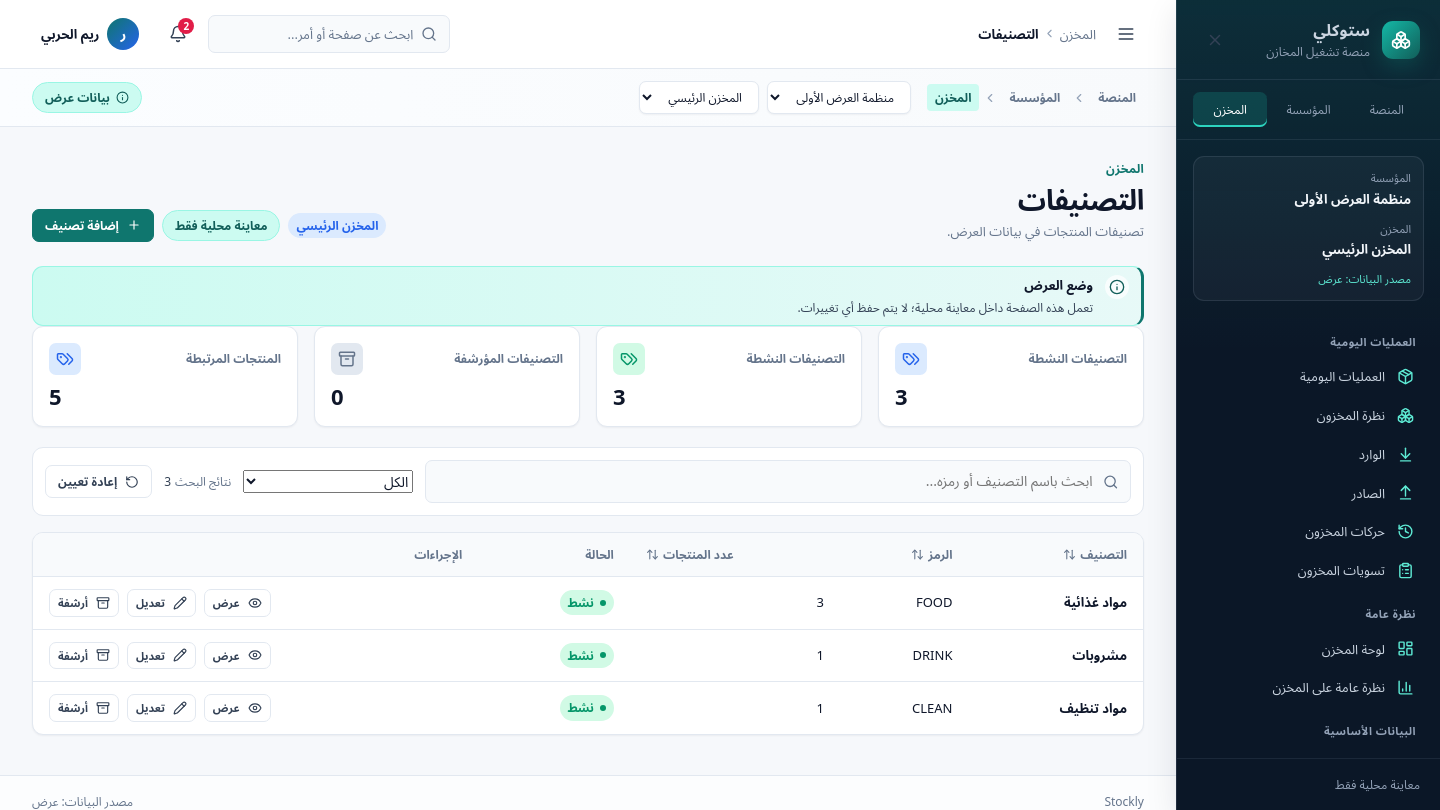
Test: Categories page › restores an archived category back into the product form
Later steps or results of the test are not shown.
Click the button "أرشفة" in the row of "مشروبات" at point(84, 655), box [49,642,119,669]
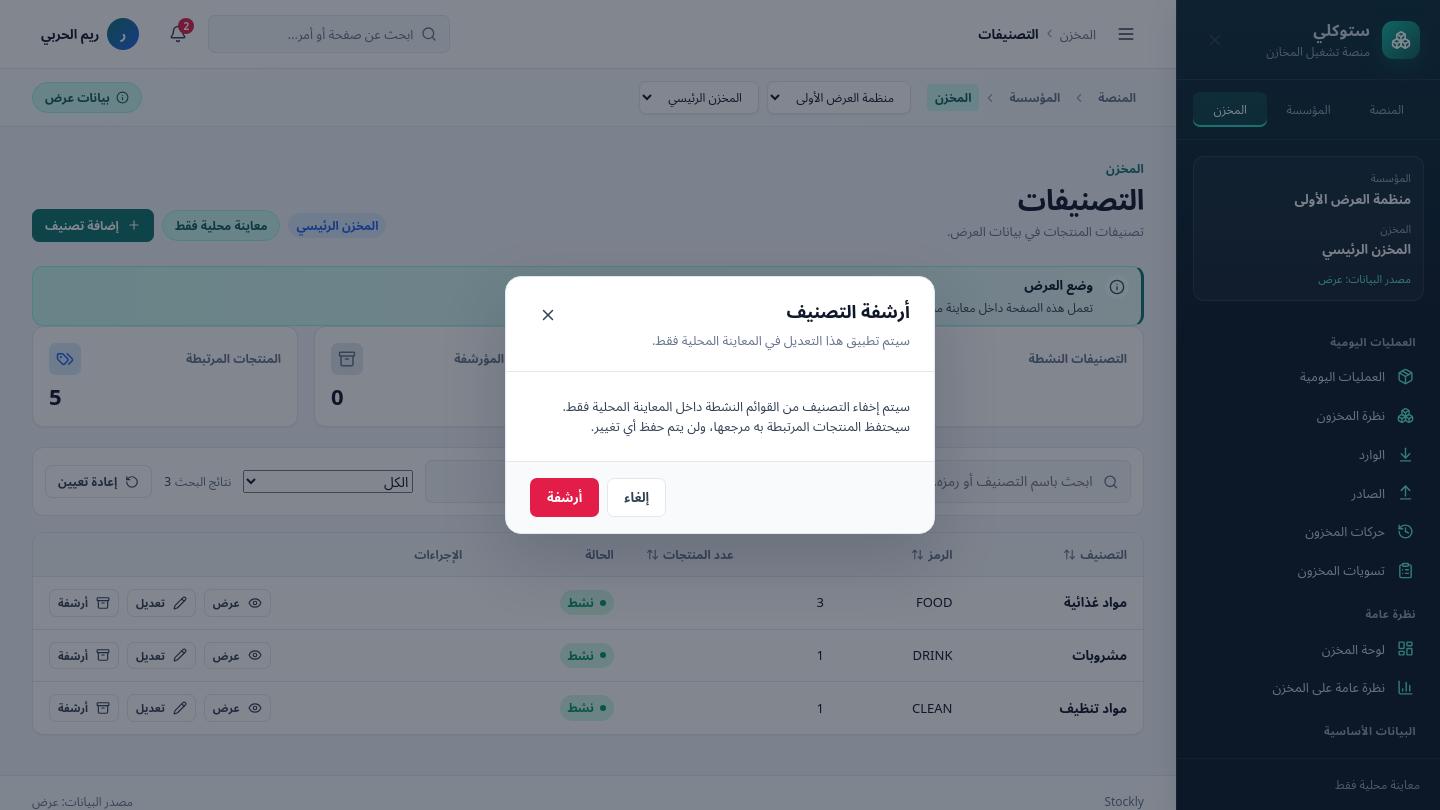
Click the button "أرشفة" at point(565, 498), box [530,478,599,517]
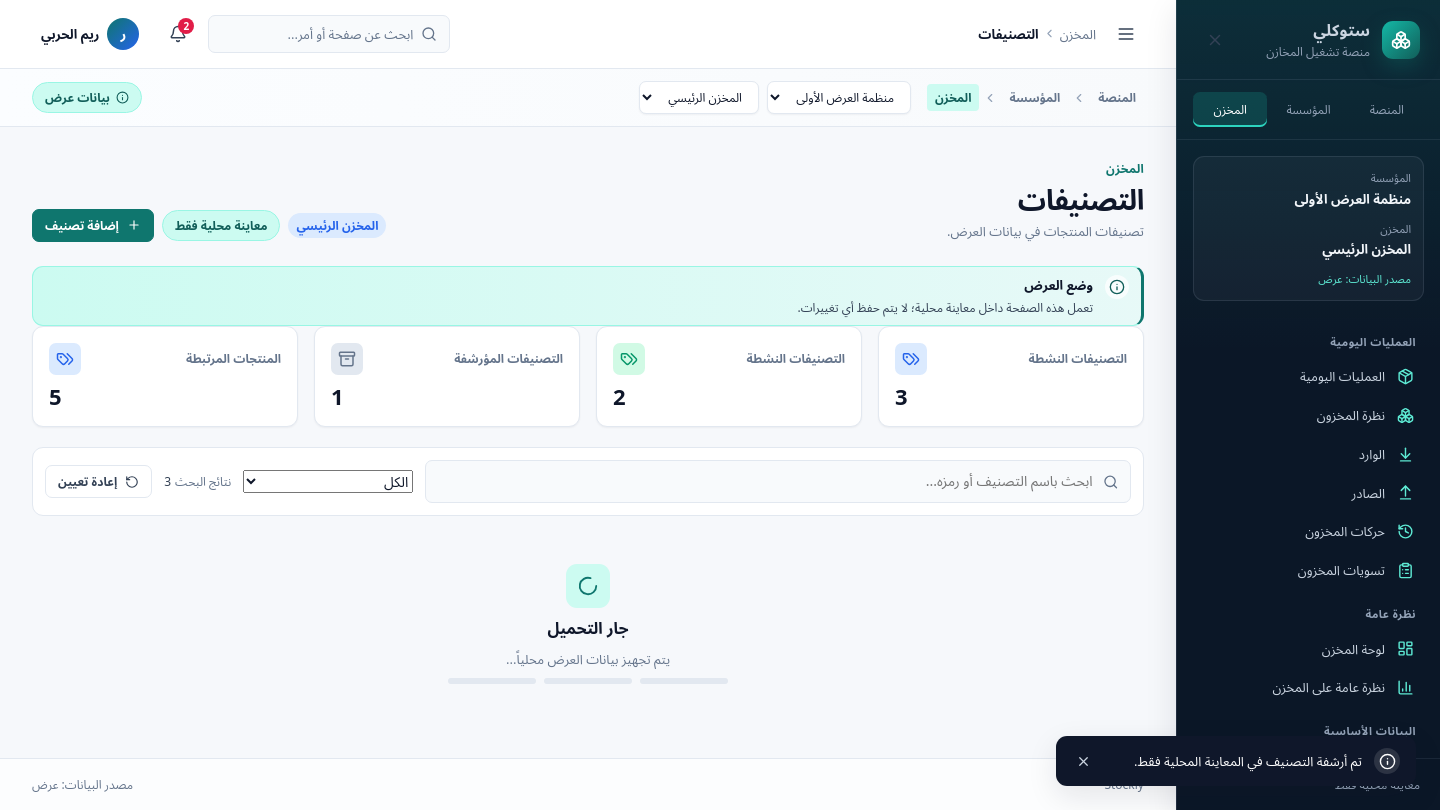
Select "مؤرشف" in the dropdown named "الحالة" at point(328, 482), box [243,470,413,493]
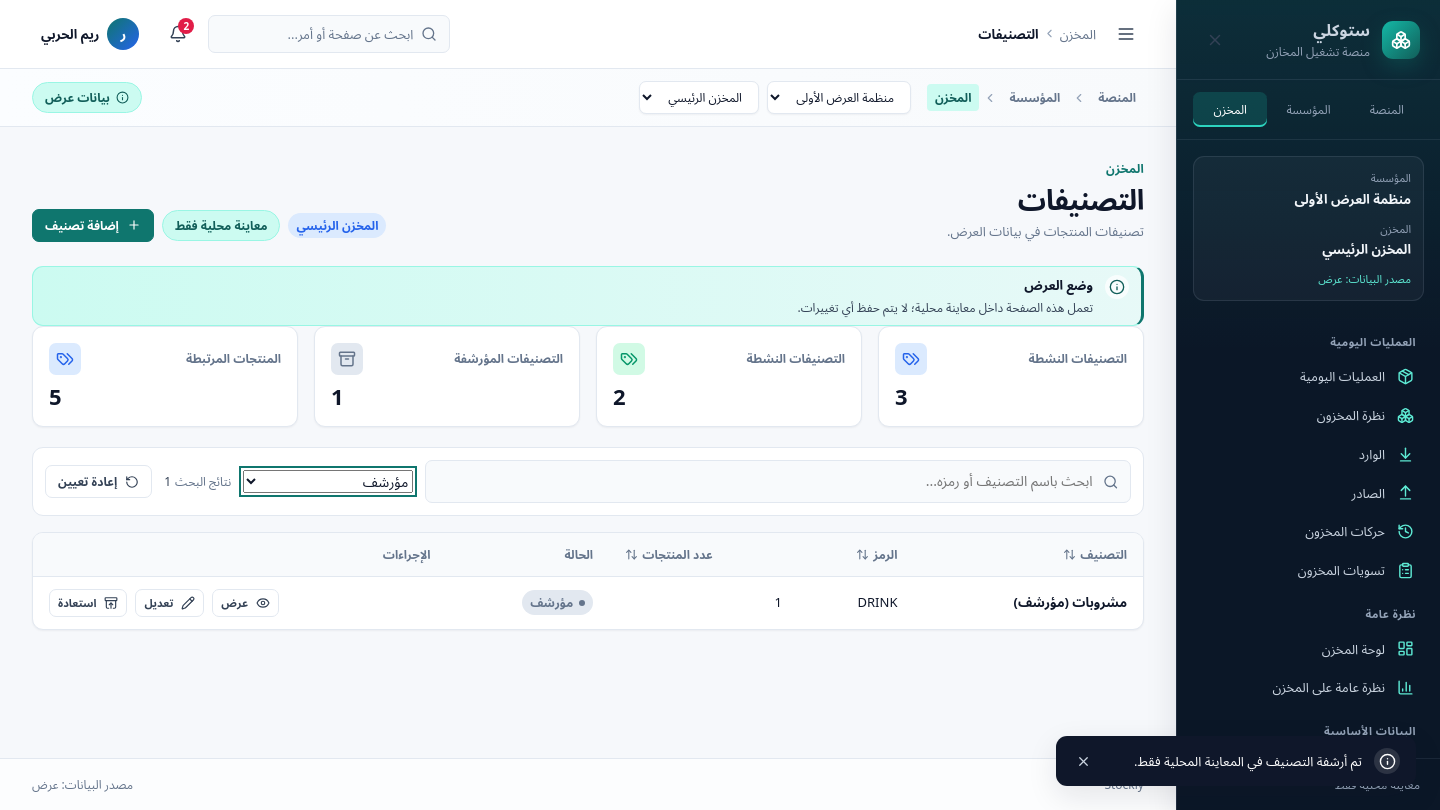
Click the button "استعادة" at point(88, 603), box [49,589,127,617]
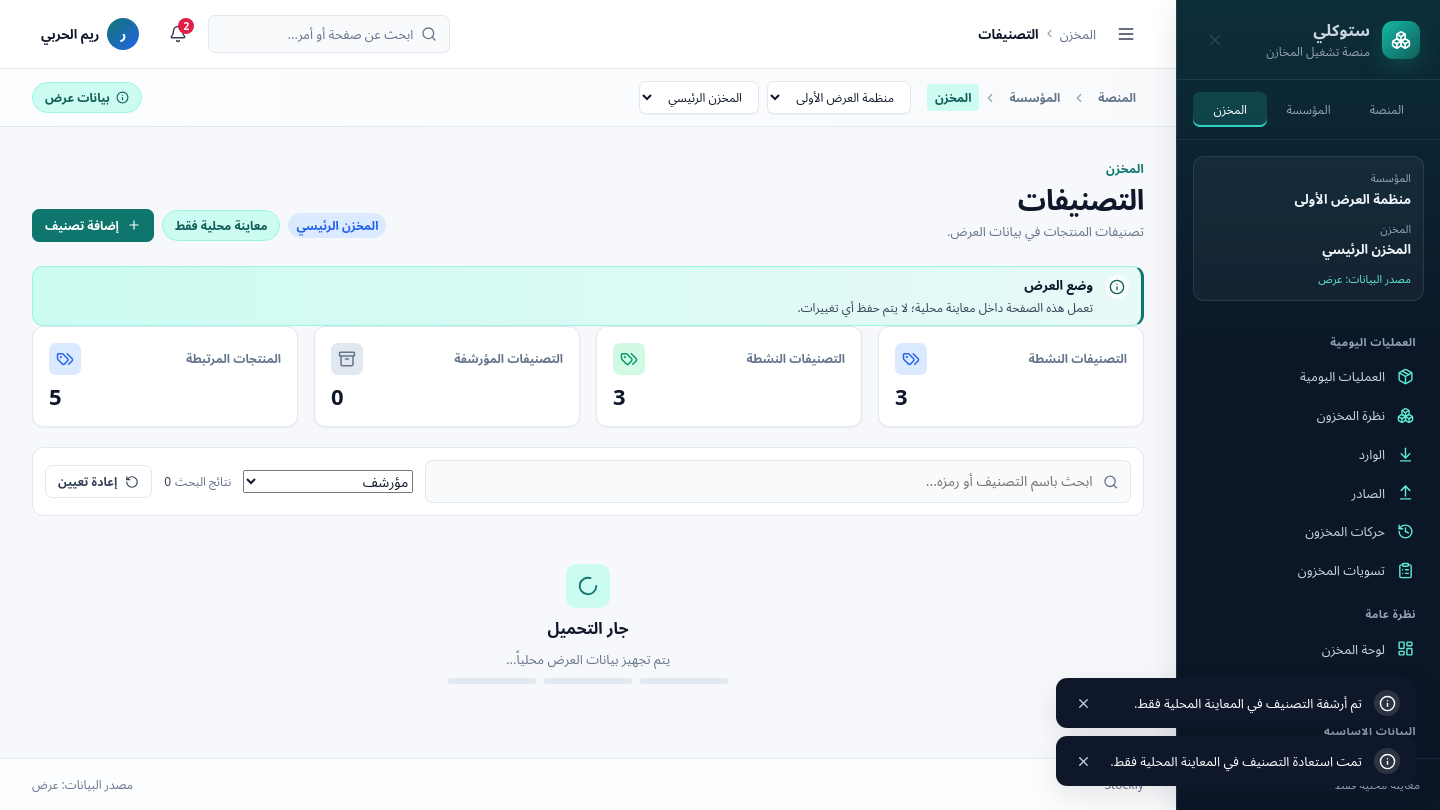
Select "نشط" in the dropdown named "الحالة" at point(328, 482), box [243,470,413,493]
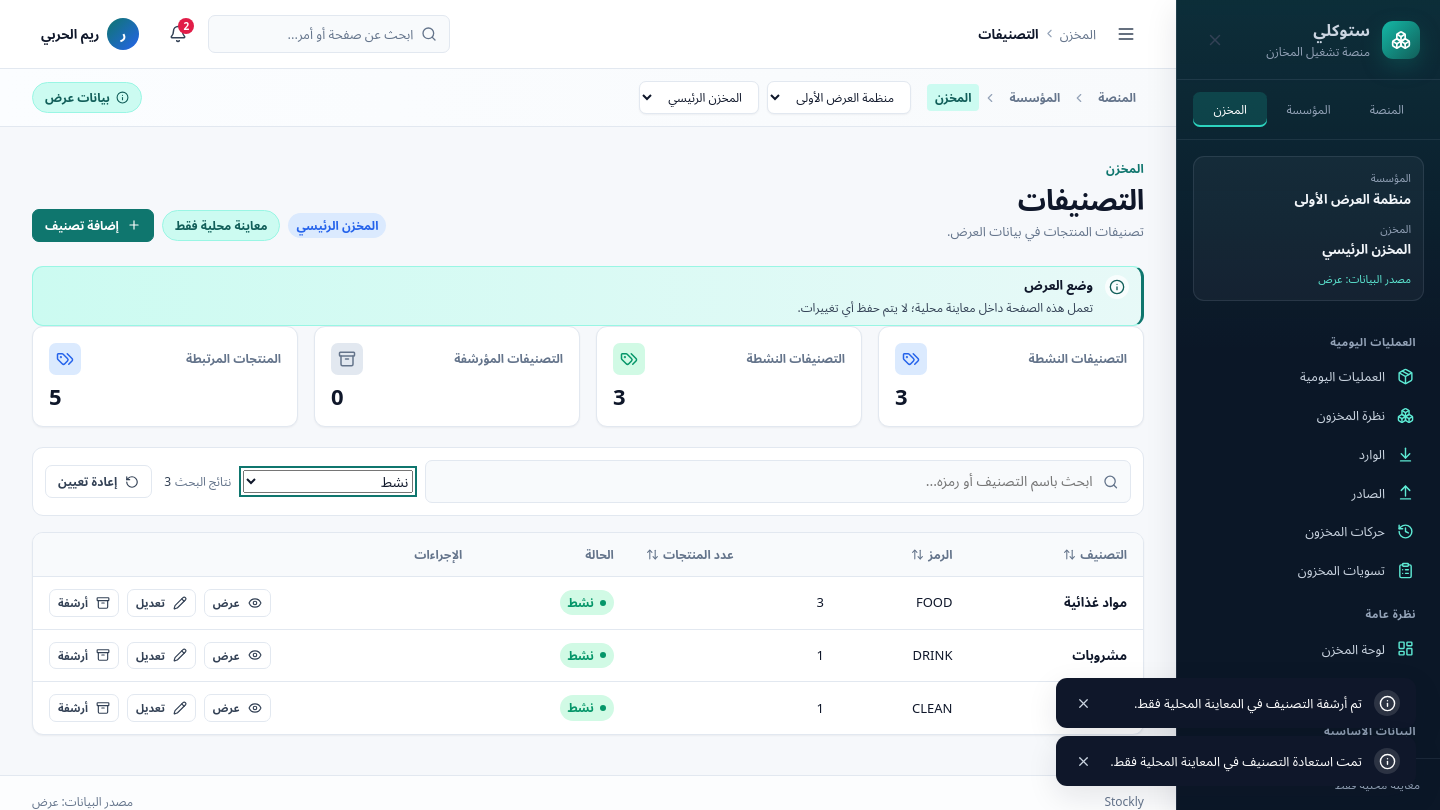
Expected: the text "مشروبات" is shown, [1072,646,1127,664]
